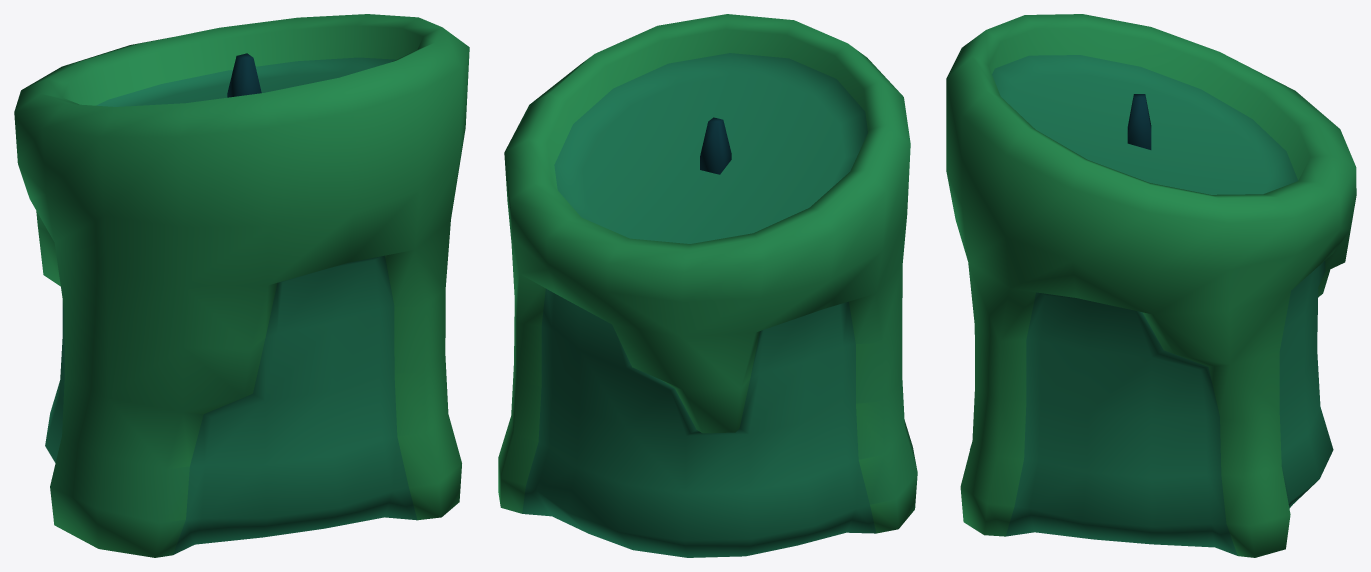
File: Candle_05.fbx
3 views of the same model, side by side, from view 1: azimuth 30°, elevation 25°; view 2: azimuth 150°, elevation 25°; view 3: azimuth 270°, elevation 25° (orthographic). The views are drawn at different scales.
Parts seen in each view (by area): view 1: Candle_05; view 2: Candle_05; view 3: Candle_05.
Part boxes in pixels (left/top/right/bottom): Candle_05: left=14, top=14, right=469, bottom=557; Candle_05: left=498, top=14, right=917, bottom=557; Candle_05: left=946, top=14, right=1356, bottom=557.
Bounding box in the file's own units: 18.94 × 21.25 × 18.24.
